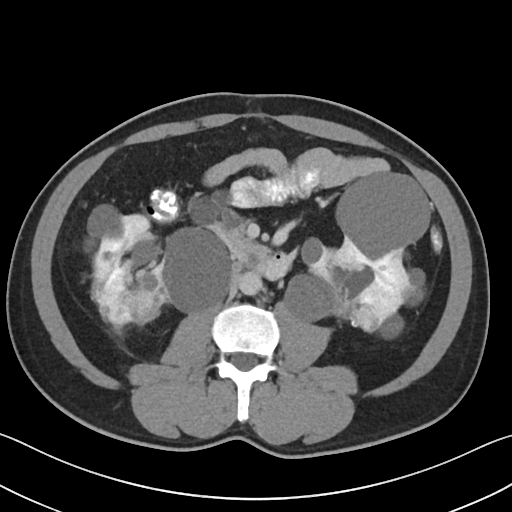Lesion: (351, 301, 381, 335)
